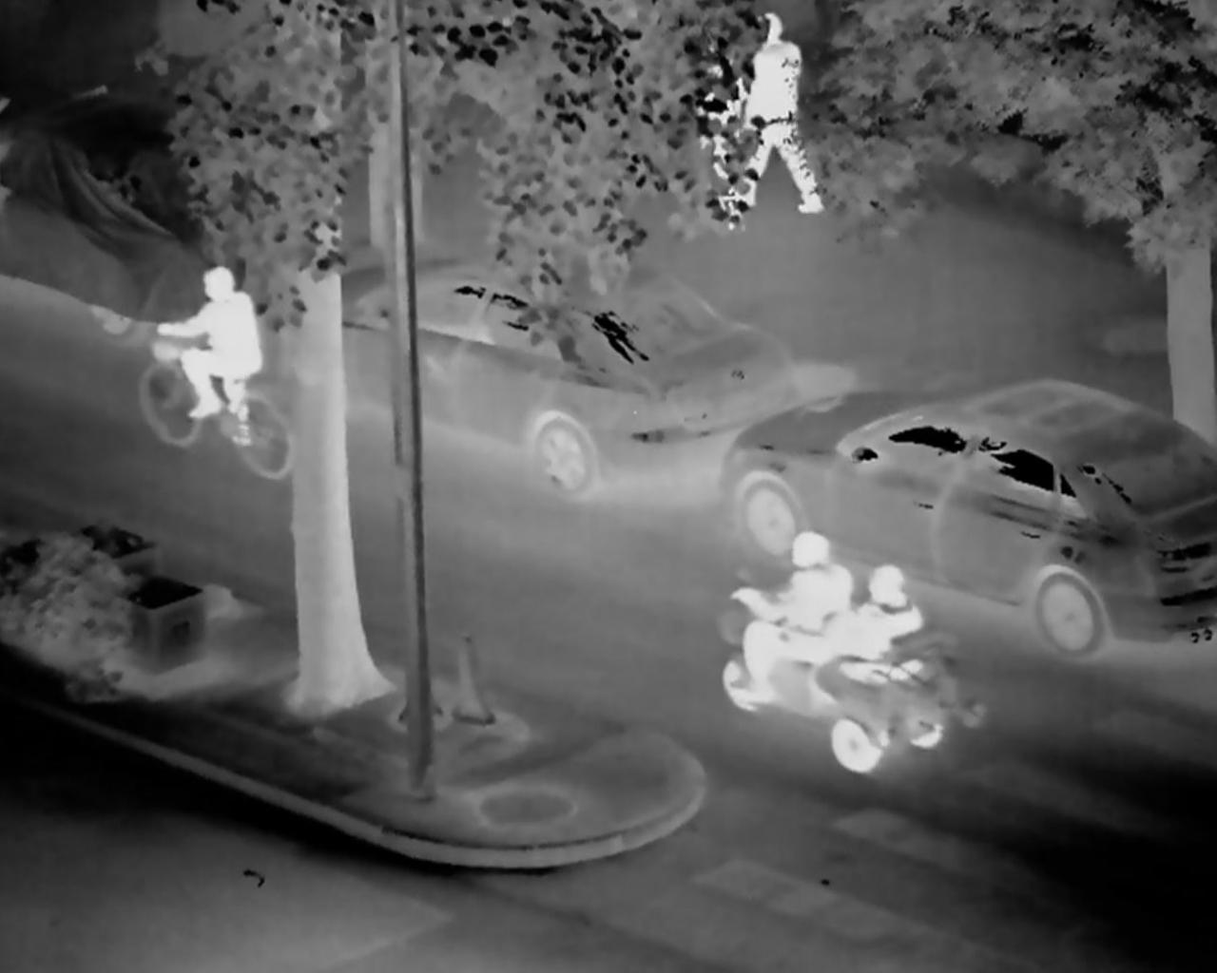person: (151, 261, 275, 477), (727, 5, 832, 214), (734, 527, 847, 712), (840, 553, 930, 719)
